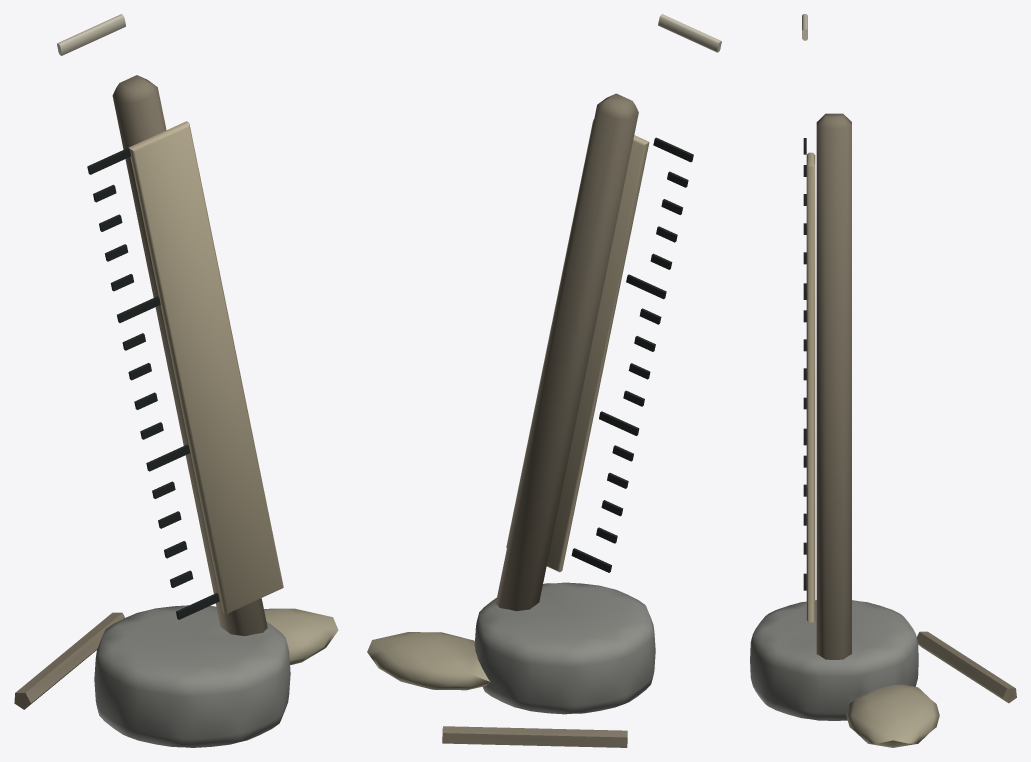
File: staff_gauge_b.glb
3 renders of one model, left to right at view 1: azimuth 30°, elevation 25°; view 2: azimuth 150°, elevation 25°; view 3: azimuth 270°, elevation 25°, orthographic. The views are drawn at different scales.
Parts seen in each view (by area): view 1: Surface; view 2: Surface; view 3: Surface.
Boxes of the visible parts, x1=… form: Surface: x1=14, y1=14, x2=338, y2=747; Surface: x1=367, y1=14, x2=721, y2=747; Surface: x1=750, y1=14, x2=1016, y2=747.
Bounding box in the file's own units: 1.1 × 2.37 × 0.91.
